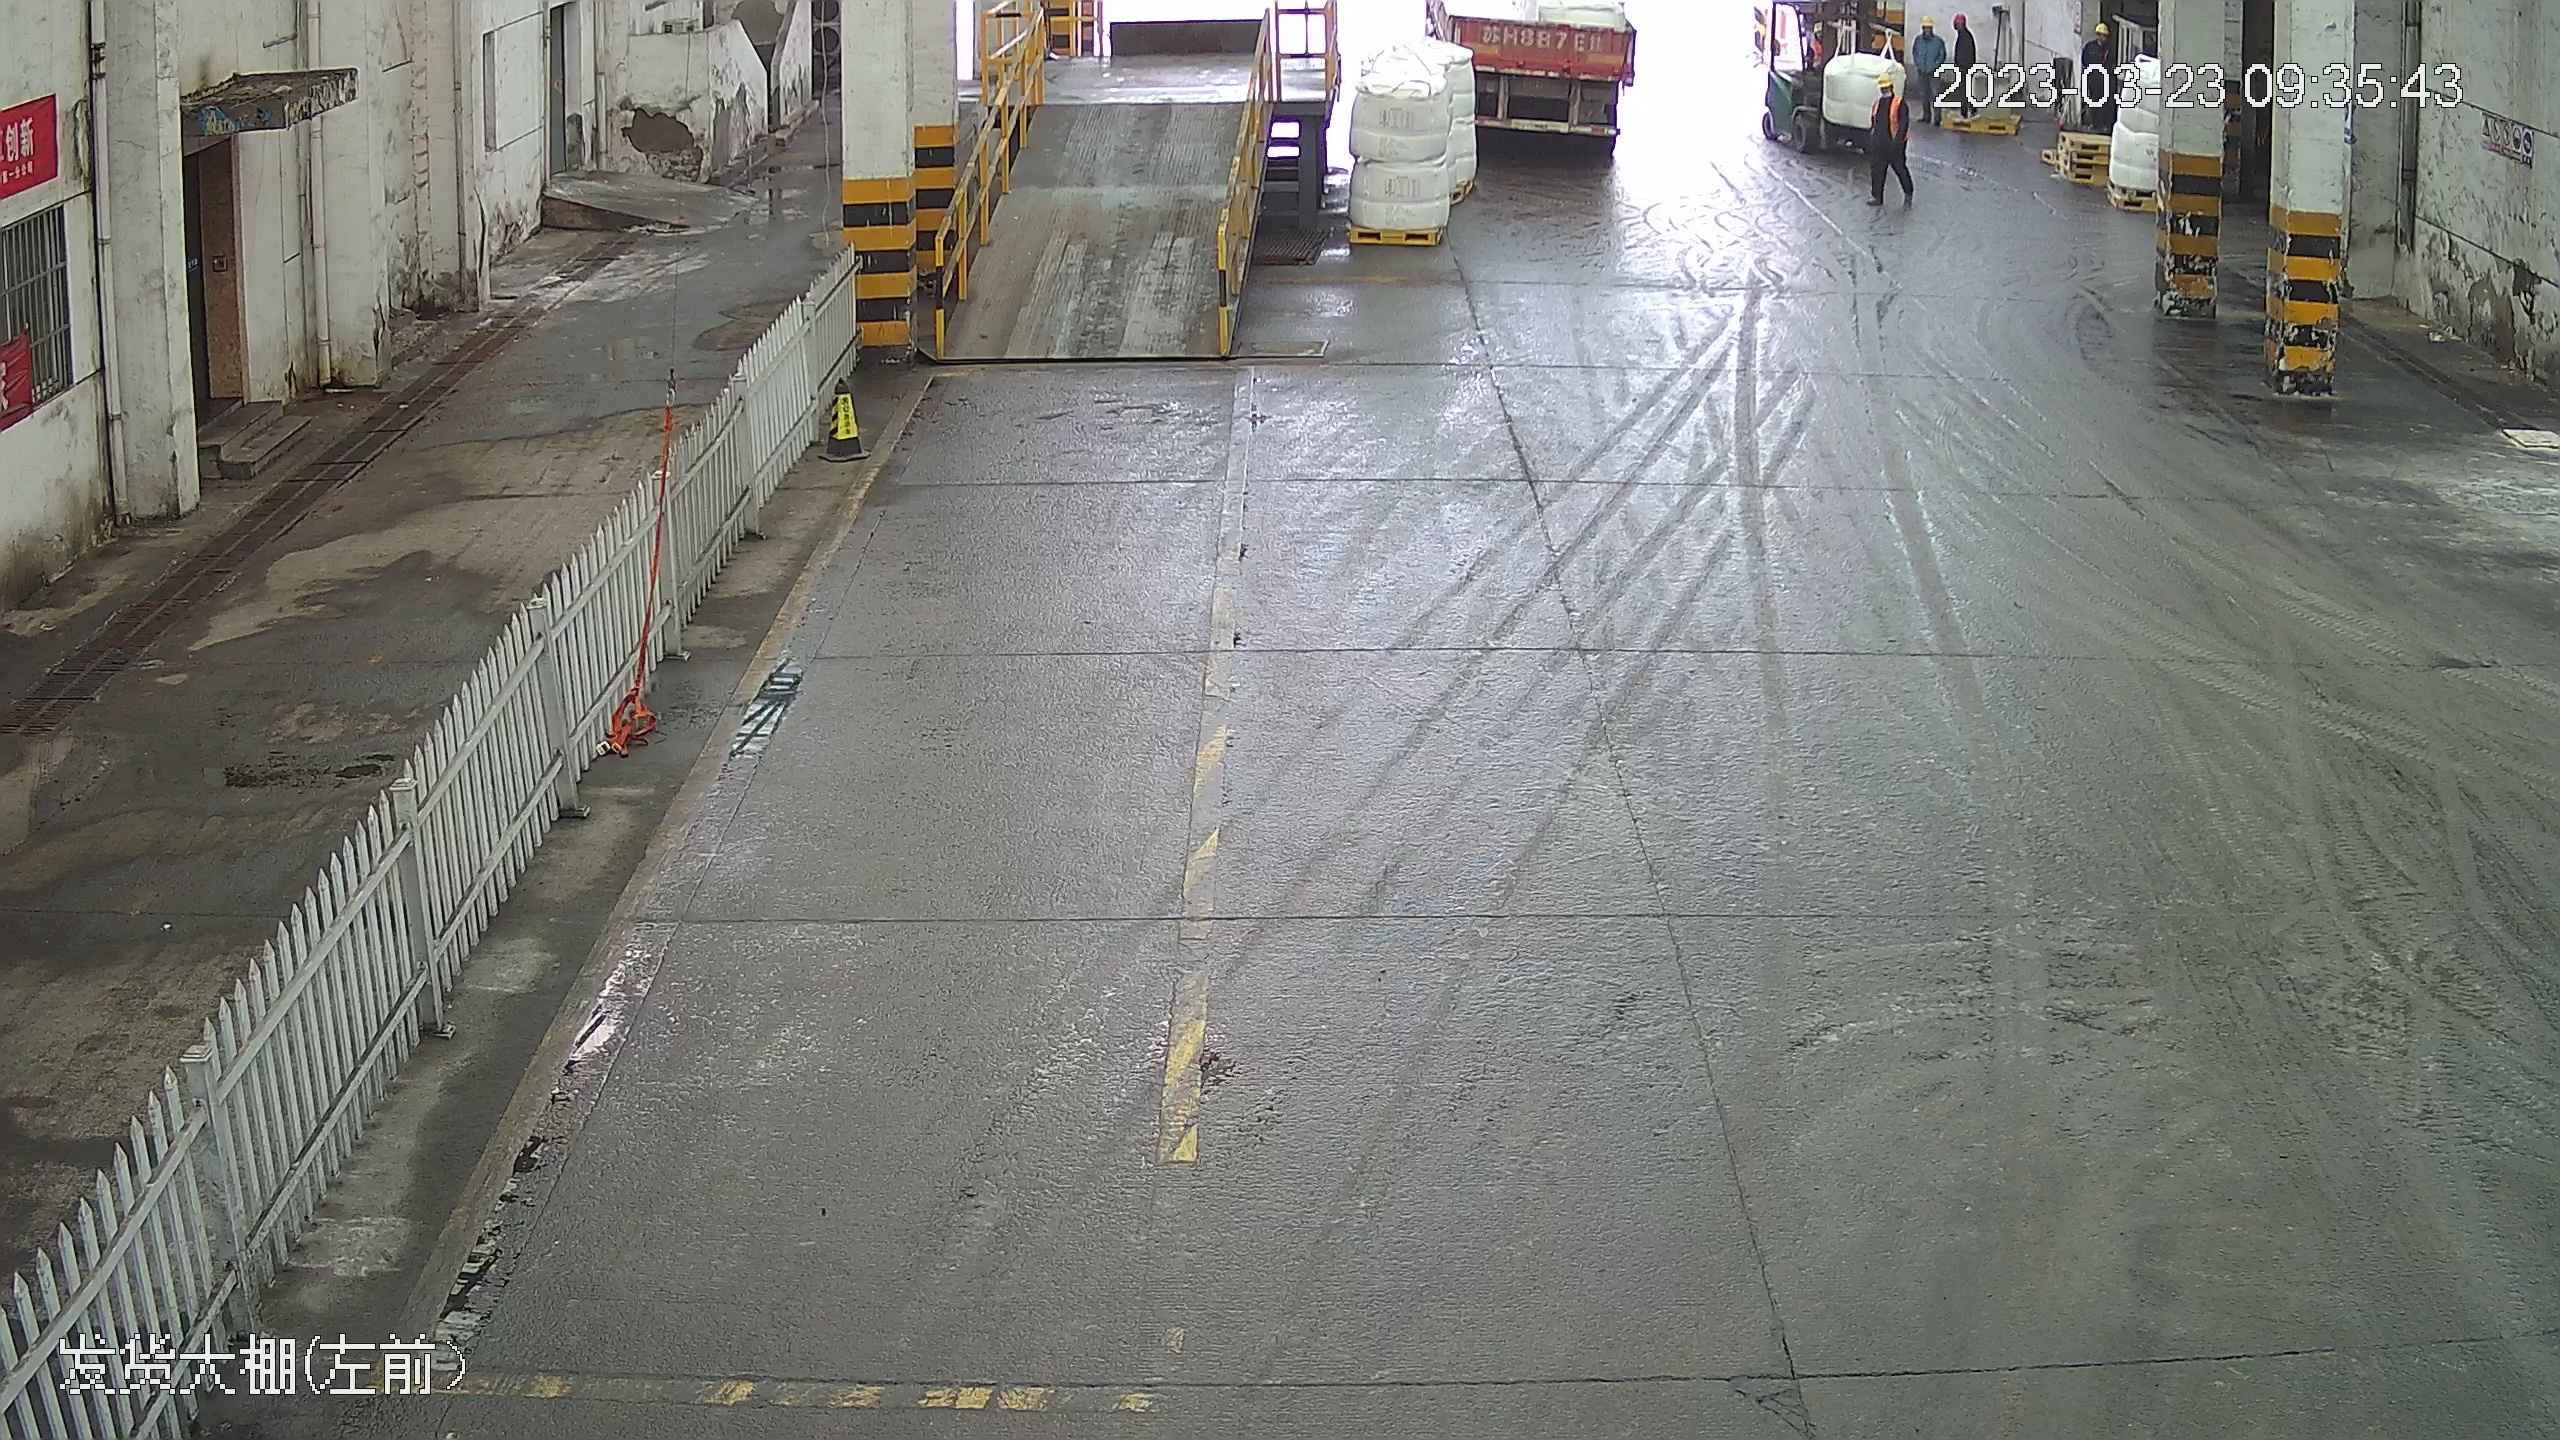head: (1870, 69, 1909, 117), (1913, 12, 1943, 50), (1950, 9, 1977, 49)
helmet: (1874, 70, 1897, 93), (1919, 12, 1934, 28), (1953, 9, 1966, 23)
people: (1865, 66, 1919, 217), (1943, 8, 1982, 113), (1911, 11, 1945, 127)
truck: (1442, 6, 1642, 150)
